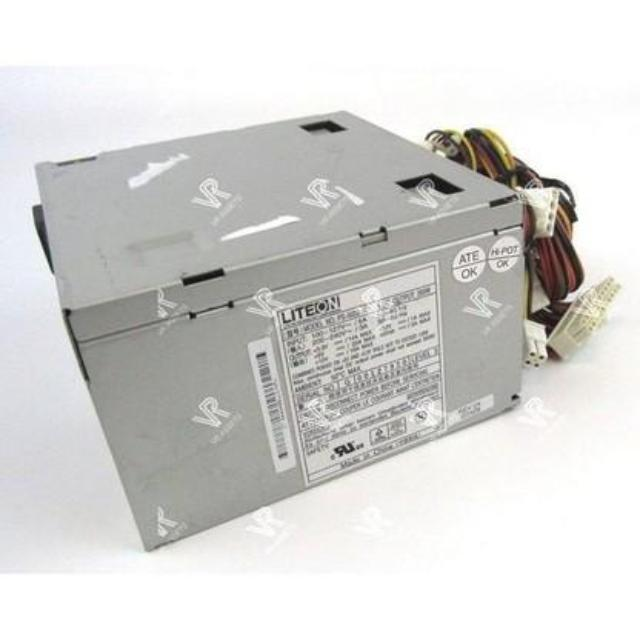PSU: (20, 95, 534, 567)
